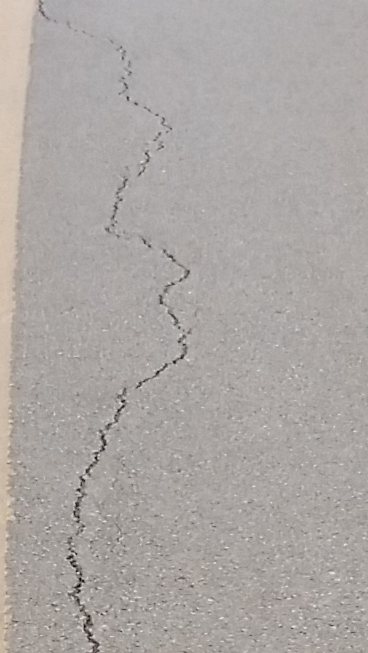A: (30, 1, 199, 651)
